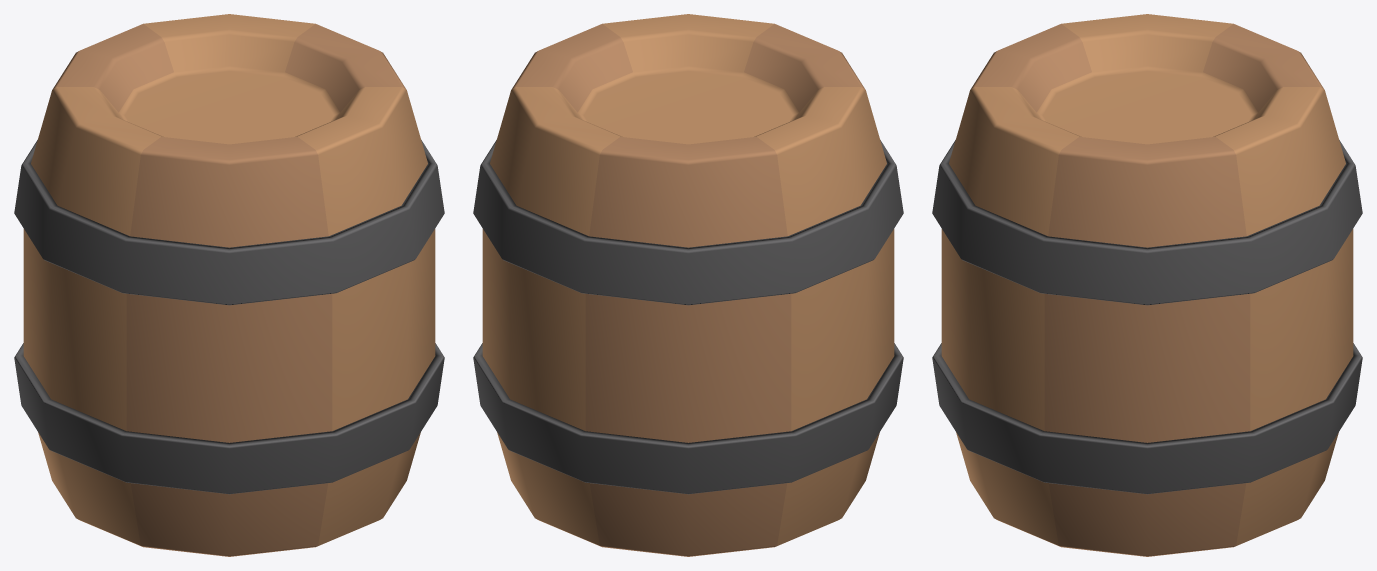
Rendered from Barrel_1.fbx.
3 views of the same model, side by side, from view 1: azimuth 30°, elevation 25°; view 2: azimuth 150°, elevation 25°; view 3: azimuth 270°, elevation 25° (orthographic).
Visible parts, largest first — view 1: Barrel_1; view 2: Barrel_1; view 3: Barrel_1.
Part boxes in pixels (box(x1,y1,x2,y2)): Barrel_1: box(14, 14, 444, 556); Barrel_1: box(473, 14, 903, 556); Barrel_1: box(932, 14, 1362, 556).
Size of the model in its own units: 92.17 by 93.81 by 92.17.
